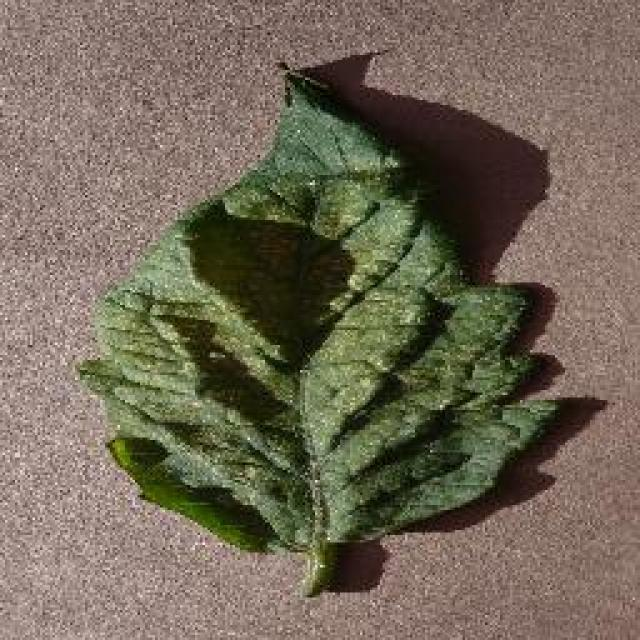Tomato spider mites leaf: (70, 59, 557, 558)
